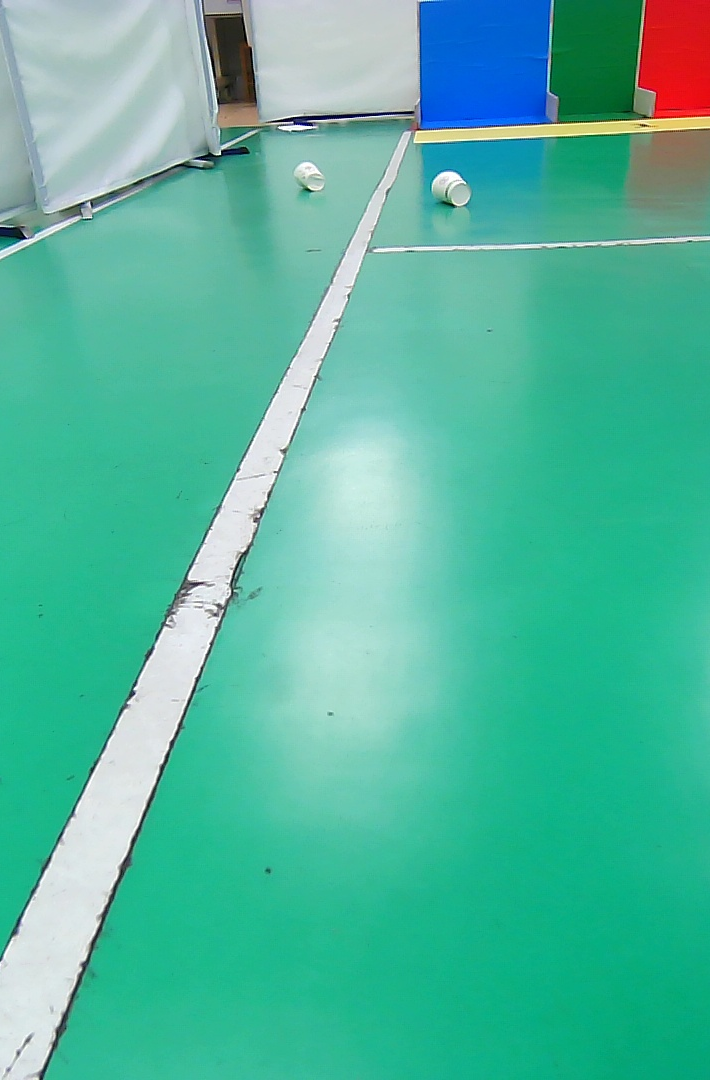papercup: (428, 168, 472, 208), (290, 160, 326, 192)
